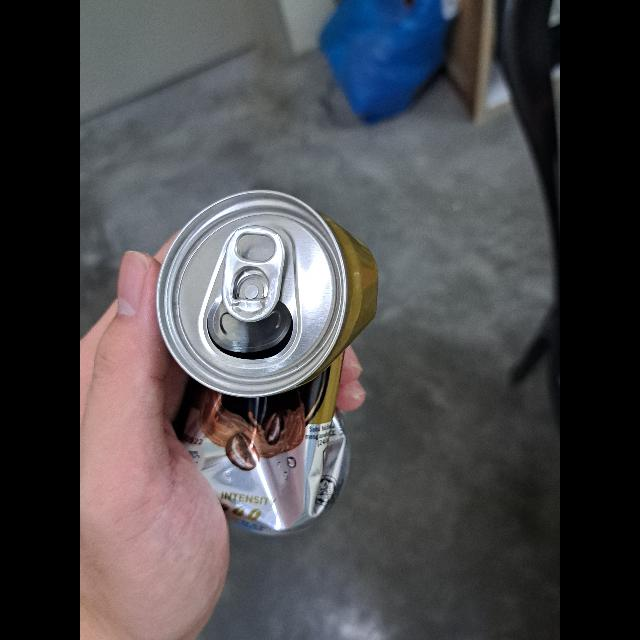aba de lata: (225, 226, 288, 322)
lata: (157, 187, 379, 538)
